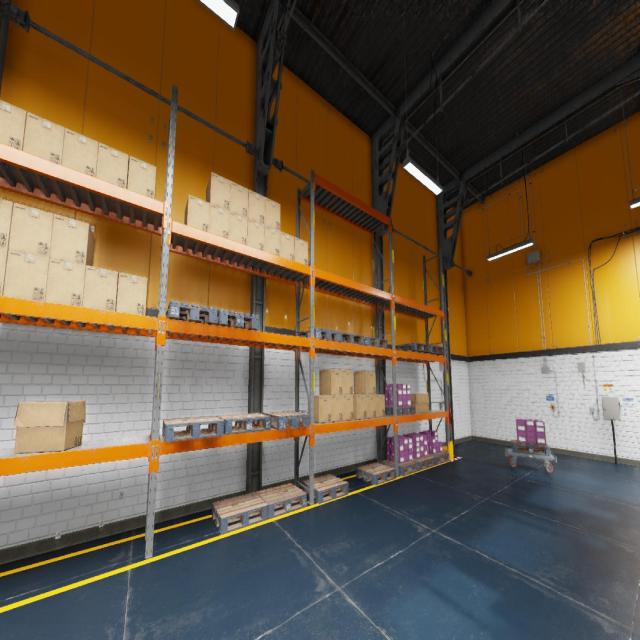box: (13, 401, 86, 453), (8, 202, 54, 257), (3, 249, 49, 301), (50, 214, 94, 265), (22, 112, 64, 164), (45, 258, 86, 306), (62, 128, 98, 177), (82, 265, 119, 311), (96, 142, 129, 188), (0, 99, 27, 150), (116, 272, 147, 315), (128, 155, 156, 199), (184, 194, 210, 232), (206, 172, 230, 210), (209, 203, 229, 238), (0, 198, 13, 248), (230, 181, 248, 217), (229, 211, 248, 245), (308, 395, 331, 423), (248, 189, 265, 224), (320, 368, 342, 394), (354, 371, 376, 394), (248, 219, 264, 250), (264, 226, 280, 256), (265, 198, 280, 230), (294, 236, 308, 265), (280, 231, 294, 260), (0, 248, 8, 296), (409, 393, 429, 412), (353, 394, 367, 419), (331, 395, 343, 422), (342, 369, 353, 395), (343, 394, 353, 420), (367, 394, 376, 418), (376, 394, 385, 417)
pallets: (212, 492, 268, 534), (256, 483, 306, 518), (162, 416, 225, 441), (302, 474, 348, 503), (166, 300, 218, 325), (216, 413, 271, 434), (262, 410, 310, 430), (356, 462, 396, 485), (216, 309, 258, 330), (511, 439, 551, 456), (382, 459, 420, 476), (300, 327, 340, 341), (332, 332, 364, 345), (397, 342, 430, 353), (358, 336, 388, 348), (412, 455, 436, 470), (428, 451, 449, 465), (385, 406, 415, 415), (423, 345, 444, 355)
